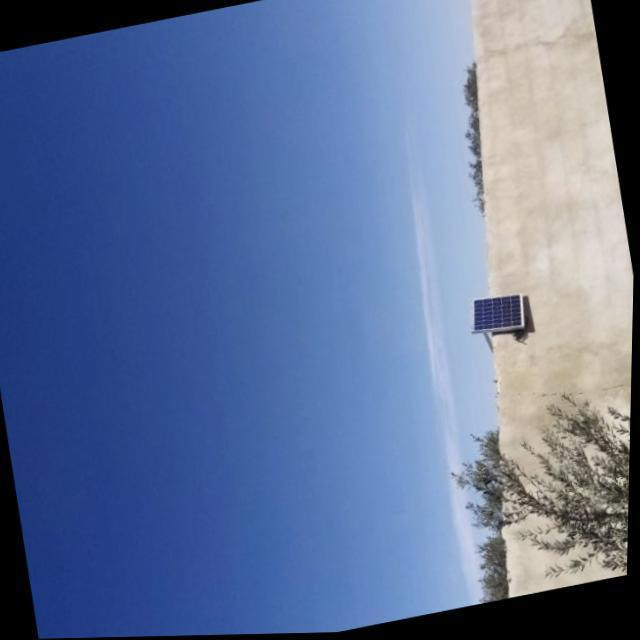Normal Solar Panel: (467, 291, 528, 339)
